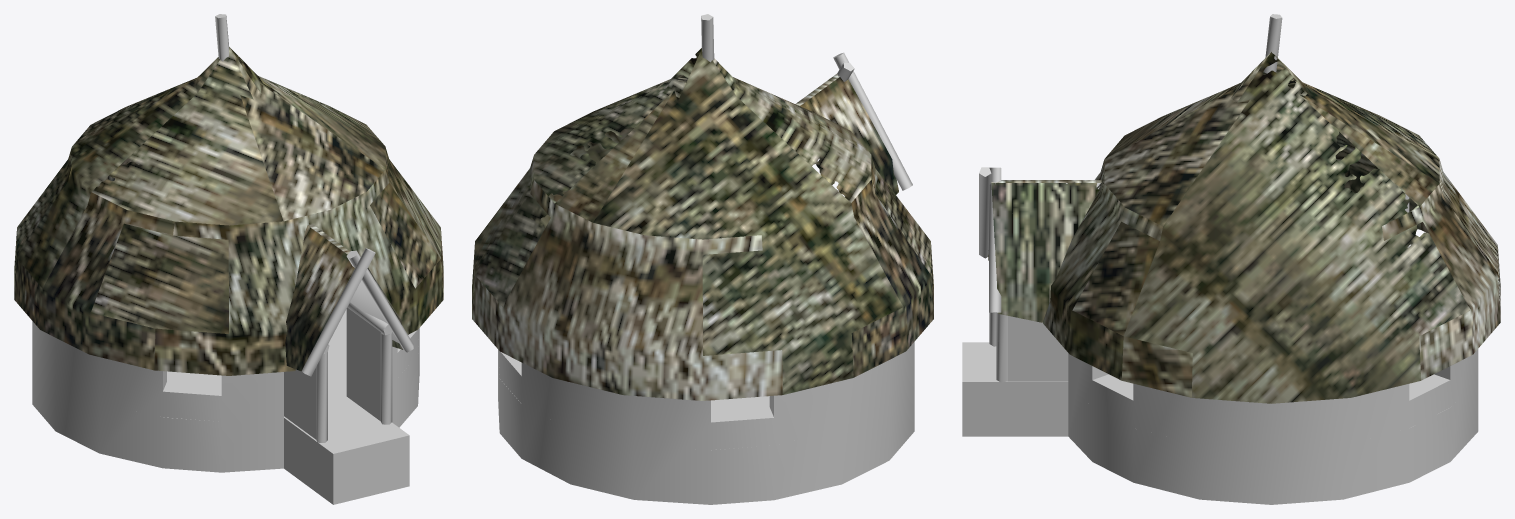
Rendered from building_hovel_small.glb.
The picture shows the model from 3 angles, left to right: view 1: azimuth 30°, elevation 25°; view 2: azimuth 150°, elevation 25°; view 3: azimuth 270°, elevation 25°; orthographic projection. The views are drawn at different scales.
Visible parts, largest first — view 1: building_hovel_small; view 2: building_hovel_small; view 3: building_hovel_small.
Part boxes in pixels (x1,y1,x2,y2): building_hovel_small: [14, 14, 443, 504]; building_hovel_small: [472, 14, 933, 504]; building_hovel_small: [962, 14, 1500, 504].
Bounding box in the file's own units: 4.63 × 4.38 × 5.35.
Materials: 2 (1 with a texture image).
